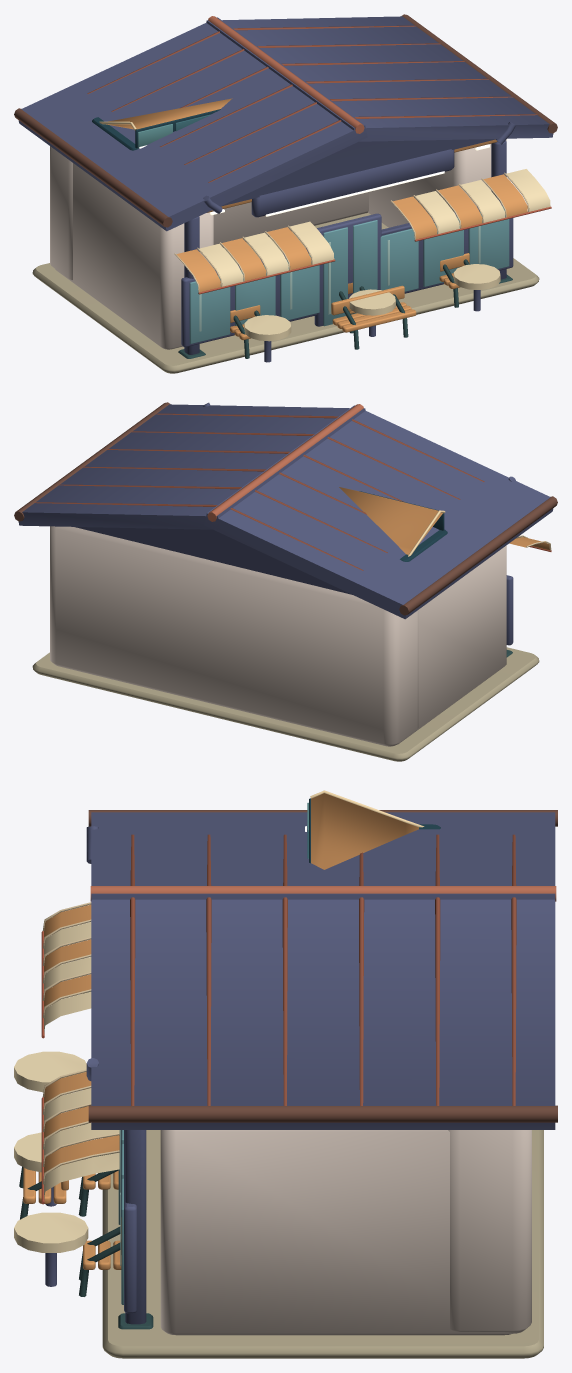
Rendered from japan_restaurant.glb.
3 views of the same model, one above another, from view 1: azimuth 30°, elevation 25°; view 2: azimuth 150°, elevation 25°; view 3: azimuth 270°, elevation 25° (orthographic). The views are drawn at different scales.
Visible parts, largest first — view 1: JapanRestaurant; view 2: JapanRestaurant; view 3: JapanRestaurant.
Part boxes in pixels (<box>): JapanRestaurant: <box>14,14,557,373</box>; JapanRestaurant: <box>14,402,557,761</box>; JapanRestaurant: <box>14,790,557,1358</box>.
Bounding box in the file's own units: 8.49 × 4.31 × 6.44.
